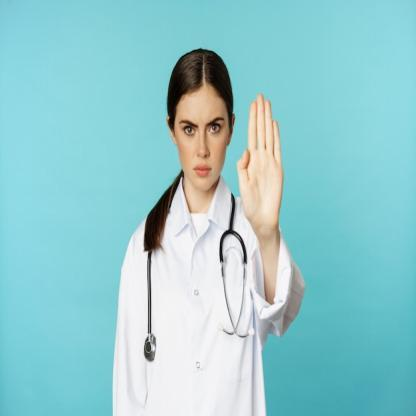stop: (236, 92, 289, 233)
